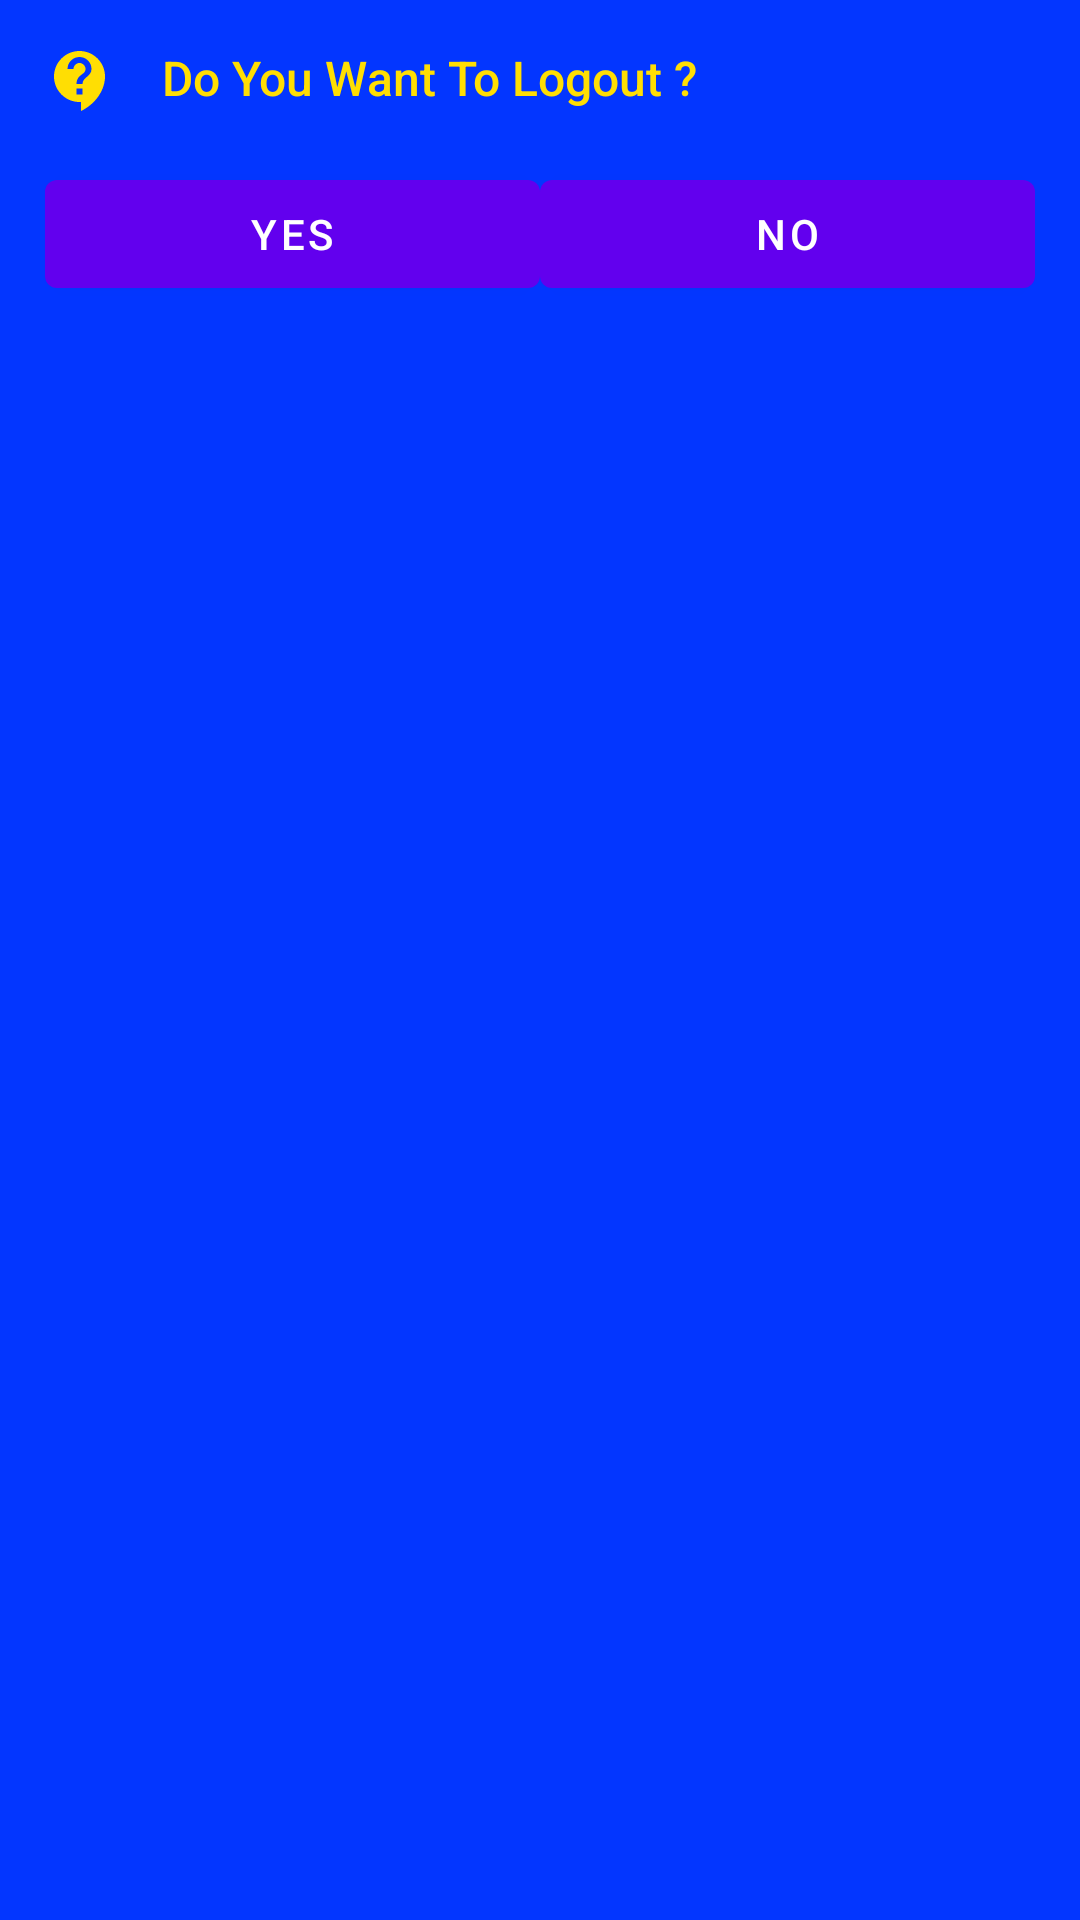

Icons on this 1080px x 1920px Android screen, each with the point to tap as point (x, y):
contact support: point (79, 81)
